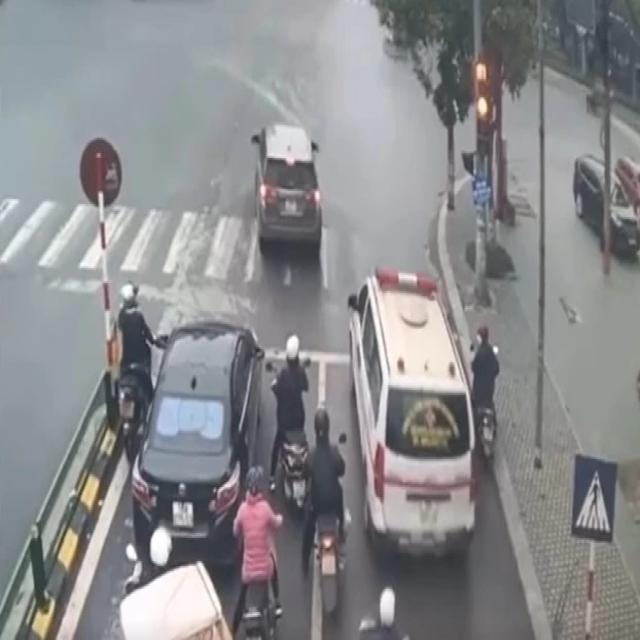Red: (475, 61, 493, 160)
